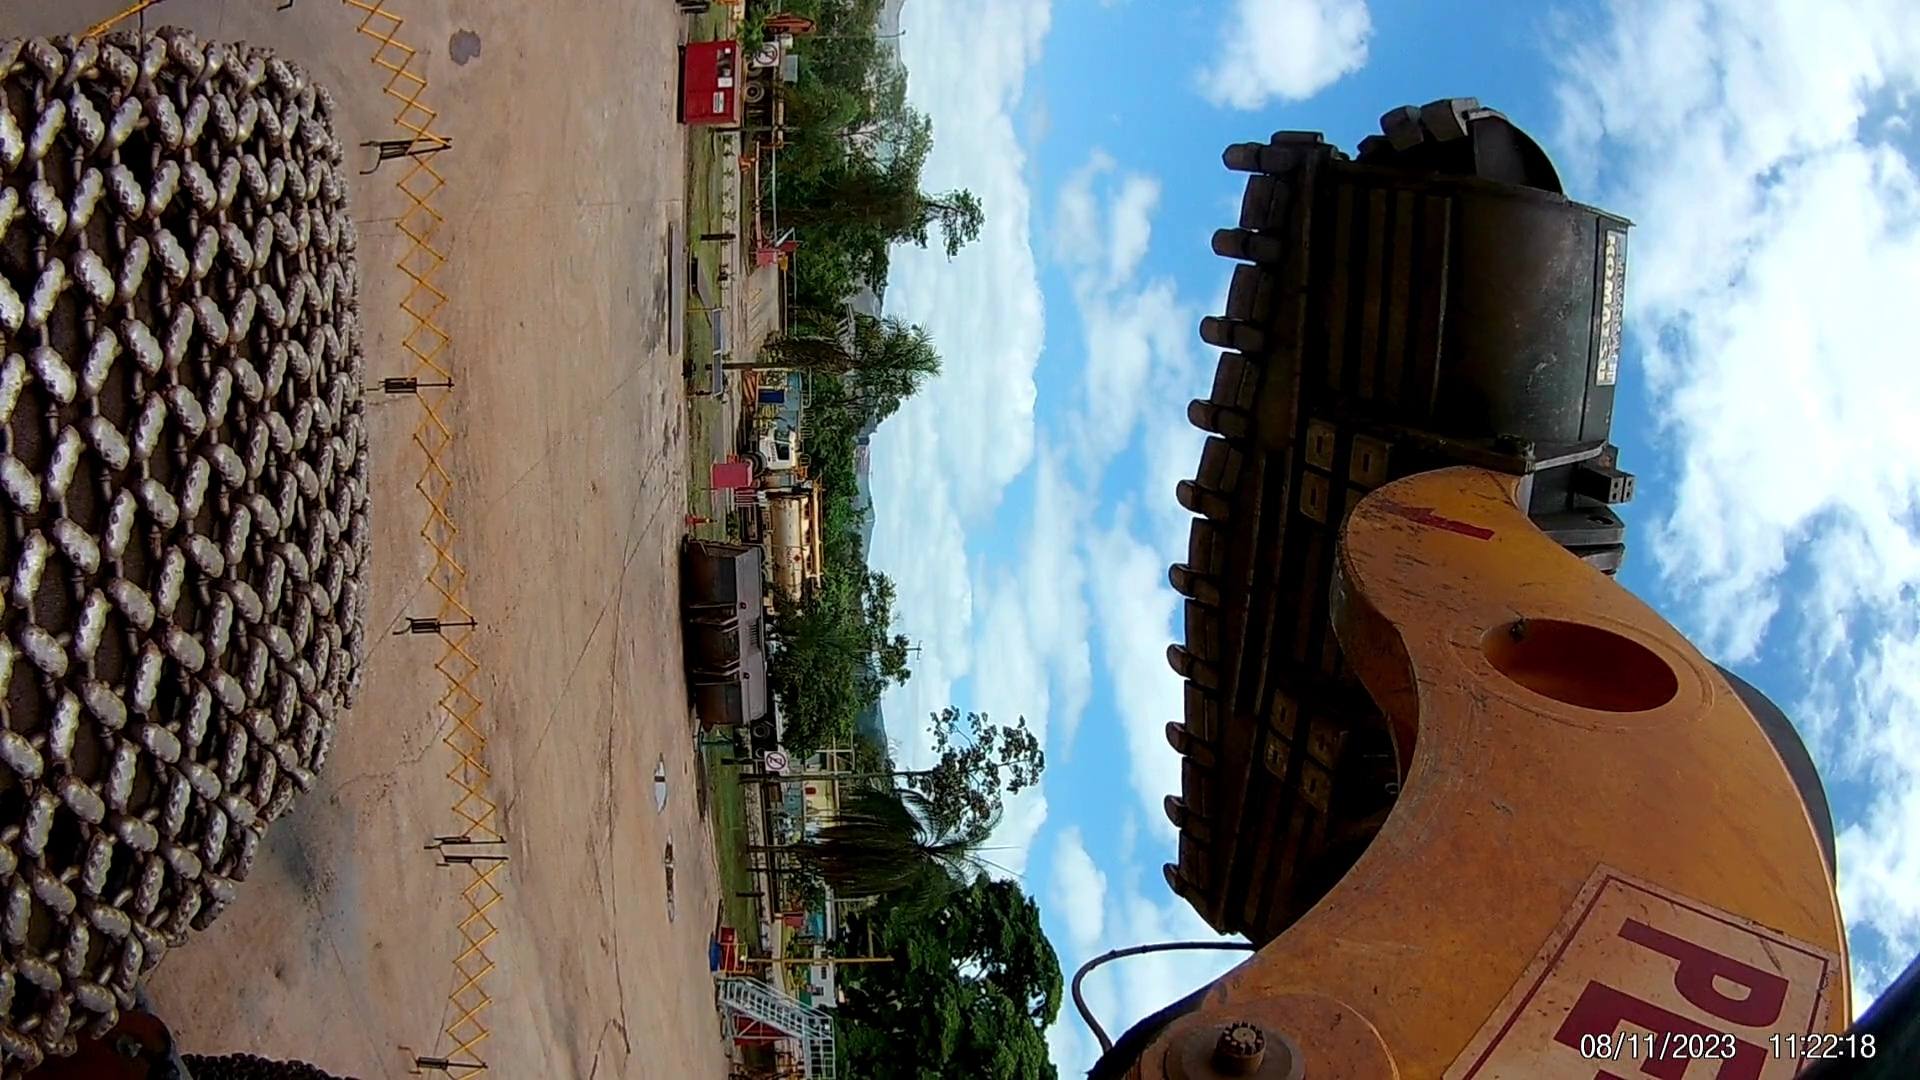FPS: (1204, 204, 1294, 272), (1156, 316, 1284, 355), (1175, 393, 1261, 448), (1142, 857, 1218, 915), (1149, 800, 1226, 857), (1151, 567, 1236, 611), (1199, 138, 1313, 169), (1154, 717, 1220, 765), (1151, 647, 1222, 688), (1163, 481, 1237, 517)
